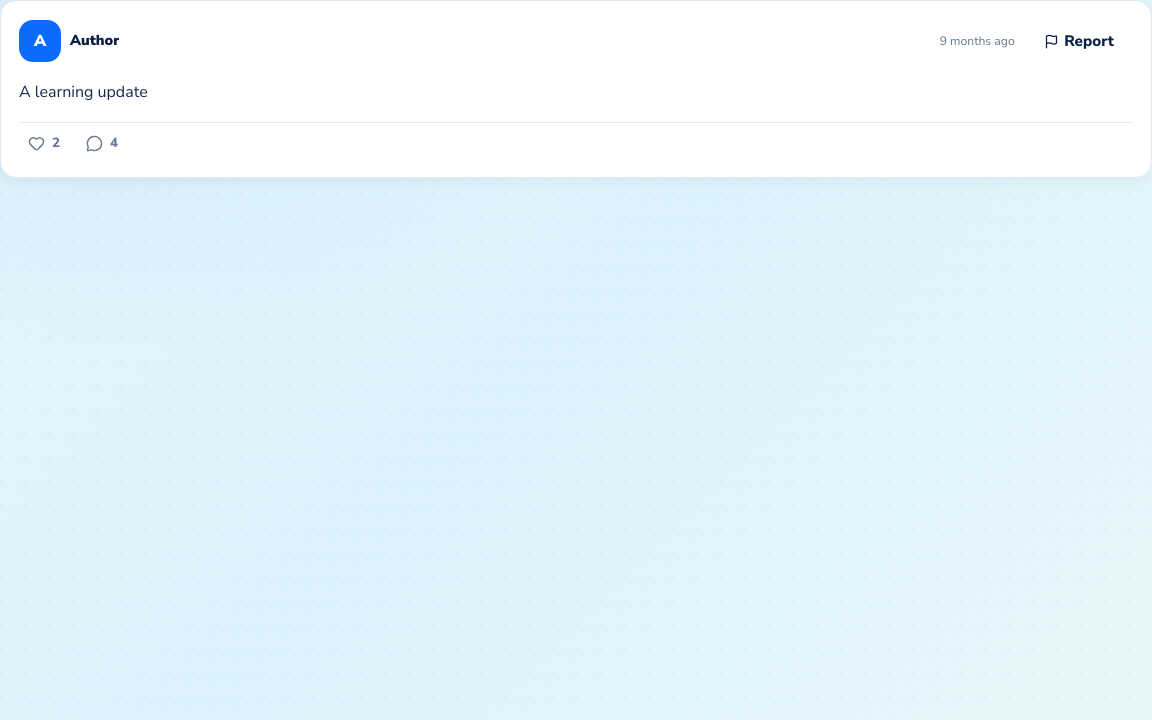
PostCard optimistic likes › updates the feed post after a successful like
The image size is (1152, 720).
Click the button named "Like post, 2 likes" at (44, 144), box [19,126,69,162]
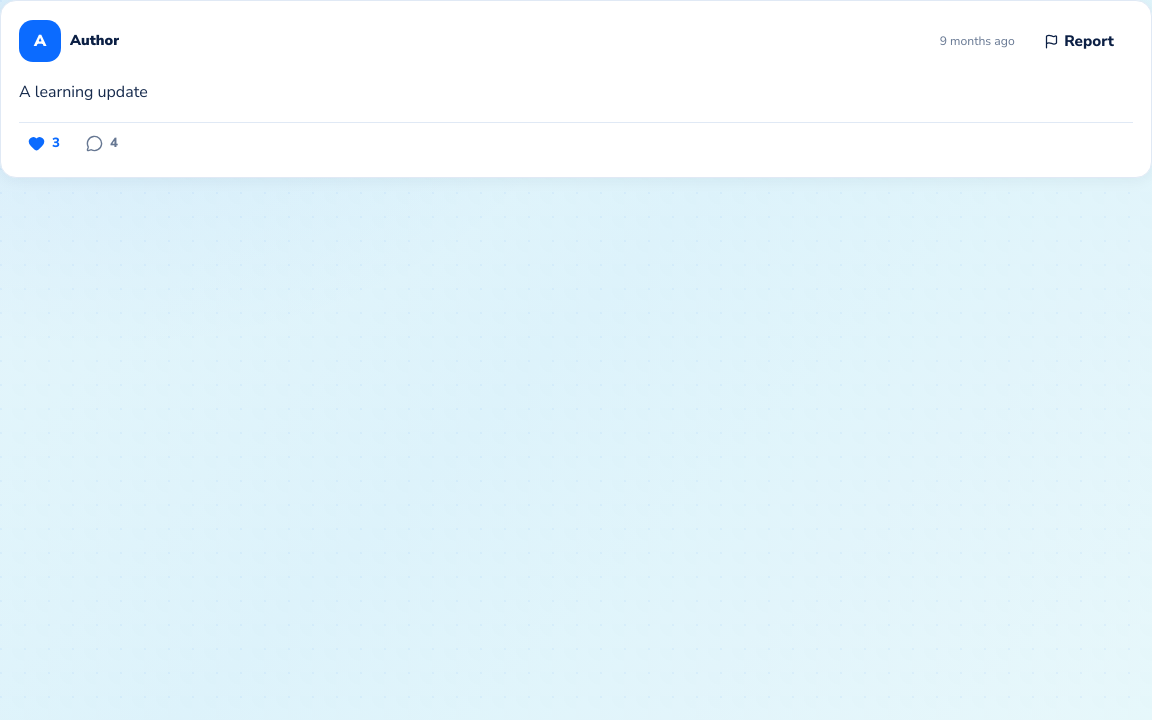
Expected: the button named "Unlike post, 3 likes" is shown, [19,126,69,162]
